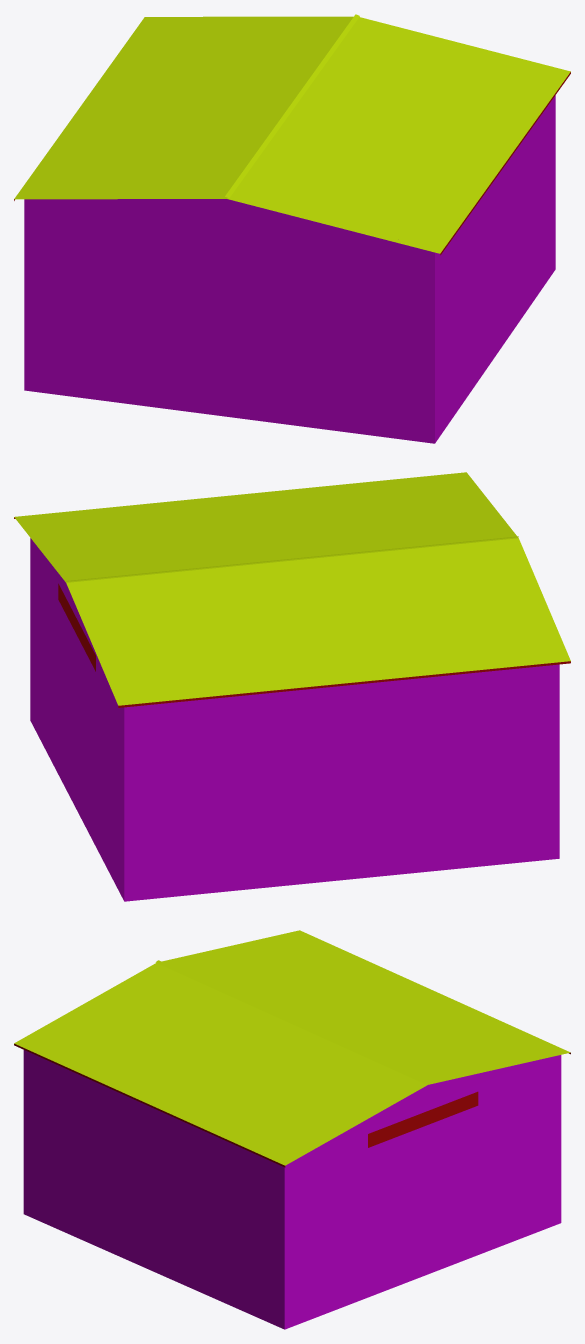
3 views of the same model, one above another, from view 1: azimuth 30°, elevation 25°; view 2: azimuth 150°, elevation 25°; view 3: azimuth 270°, elevation 25° (orthographic). The views are drawn at different scales.
Visible parts, largest first — view 1: sc_32; view 2: sc_32; view 3: sc_32.
Boxes of the visible parts, box(x1,y1,x2,y2) form: sc_32: box(14, 14, 570, 443); sc_32: box(14, 472, 570, 901); sc_32: box(14, 930, 570, 1329).
Bounding box in the file's own units: 32.34 × 12.6 × 32.33.
